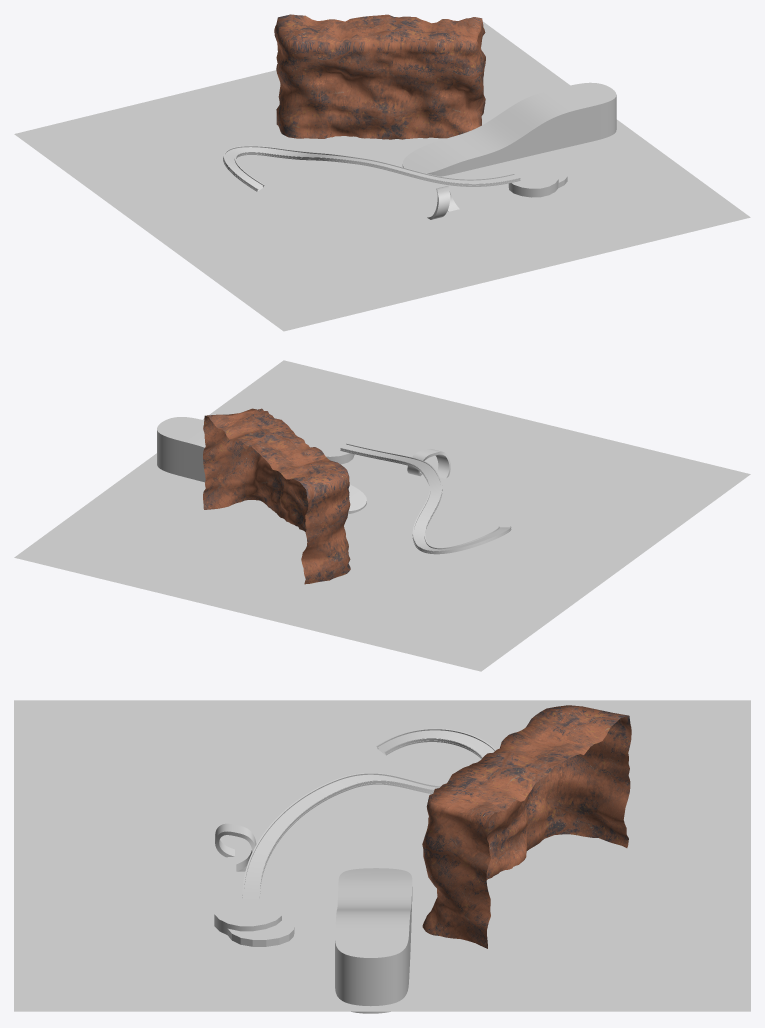
File: RandomLevel.fbx
The picture shows the model from 3 angles, top to bottom: view 1: azimuth 30°, elevation 25°; view 2: azimuth 150°, elevation 25°; view 3: azimuth 270°, elevation 25°; orthographic projection. The views are drawn at different scales.
Visible parts, largest first — view 1: Plane, Cube, Cube.001, Cube.002, Cube.003, Cylinder; view 2: Plane, Cube, Cube.001, Cube.002, Cube.003, Cylinder; view 3: Plane, Cube, Cube.001, Cube.002, Cube.003, Cube.004, Cylinder.
Boxes of the visible parts, box(x1,y1,x2,y2) form: Plane: box(14, 21, 750, 331); Cube: box(274, 14, 485, 139); Cube.001: box(402, 82, 616, 176); Cube.002: box(223, 145, 520, 191); Cube.003: box(508, 167, 558, 197); Cylinder: box(427, 186, 459, 219); Plane: box(14, 360, 750, 671); Cube: box(203, 408, 350, 584); Cube.001: box(157, 417, 366, 514); Cube.002: box(340, 443, 511, 554); Cube.003: box(306, 436, 354, 464); Cylinder: box(407, 449, 450, 478); Plane: box(14, 700, 750, 1011); Cube: box(422, 705, 631, 948); Cube.001: box(335, 868, 412, 1013); Cube.002: box(242, 728, 495, 898); Cube.003: box(214, 897, 281, 934); Cube.004: box(227, 914, 294, 946); Cylinder: box(215, 823, 256, 871).
Bounding box in the file's own units: 143 × 31.57 × 143.
Materials: 1 (1 with a texture image).
